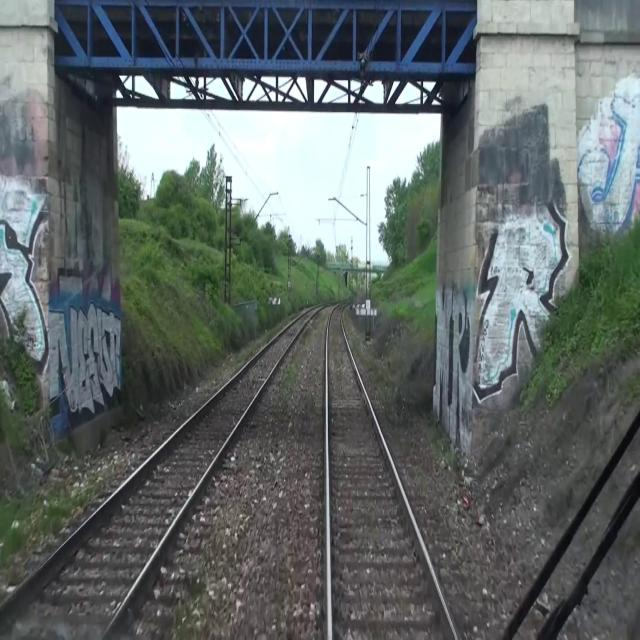rail-track: (0, 308, 315, 639), (328, 305, 453, 639)
